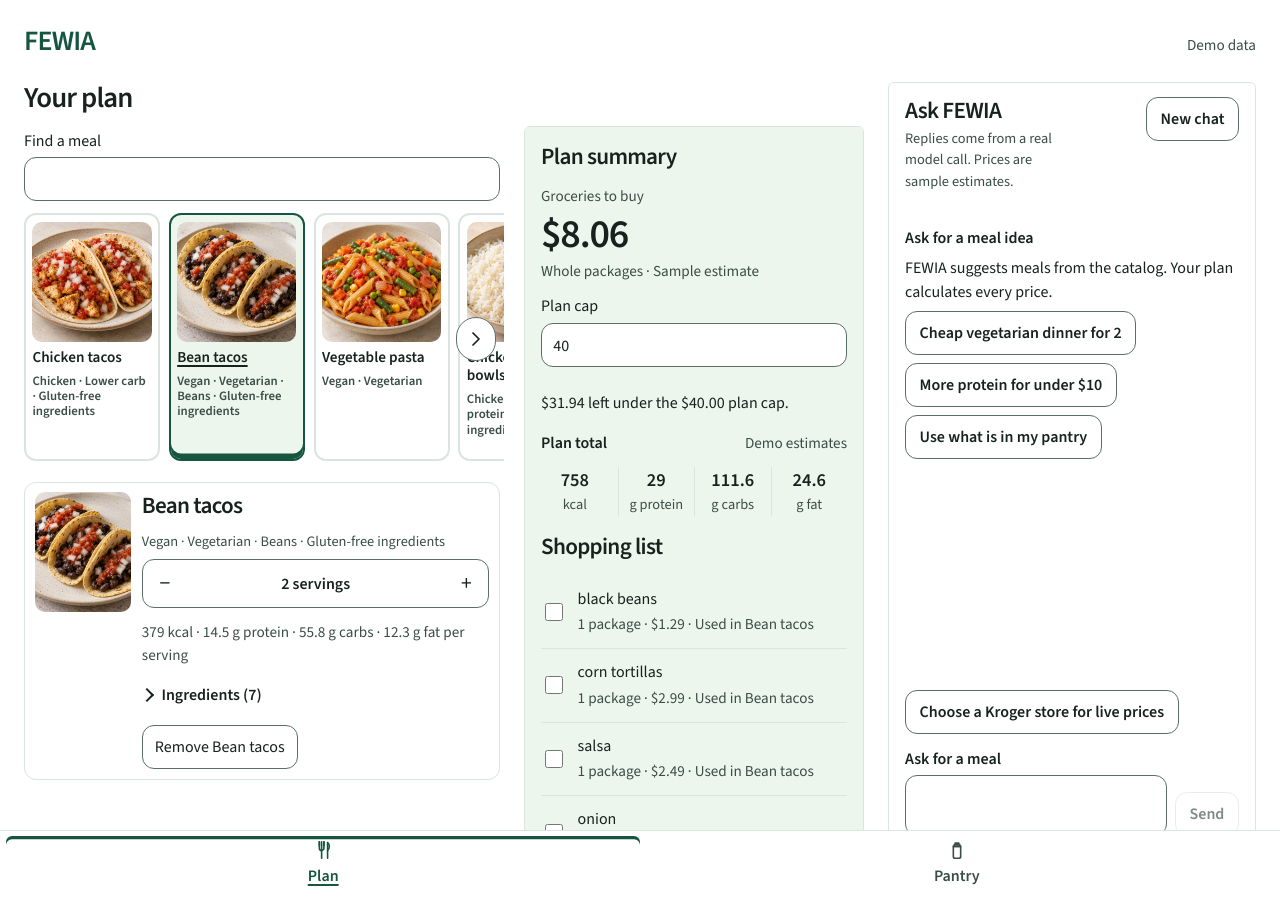
Scenario: TonightPrototype › keeps an invalid plan cap linked after visiting Pantry
This screenshot has width=1280, height=900.
Replace the text in the field labelled "Plan cap" with "12.345" at (694, 345), box [541, 323, 847, 367]
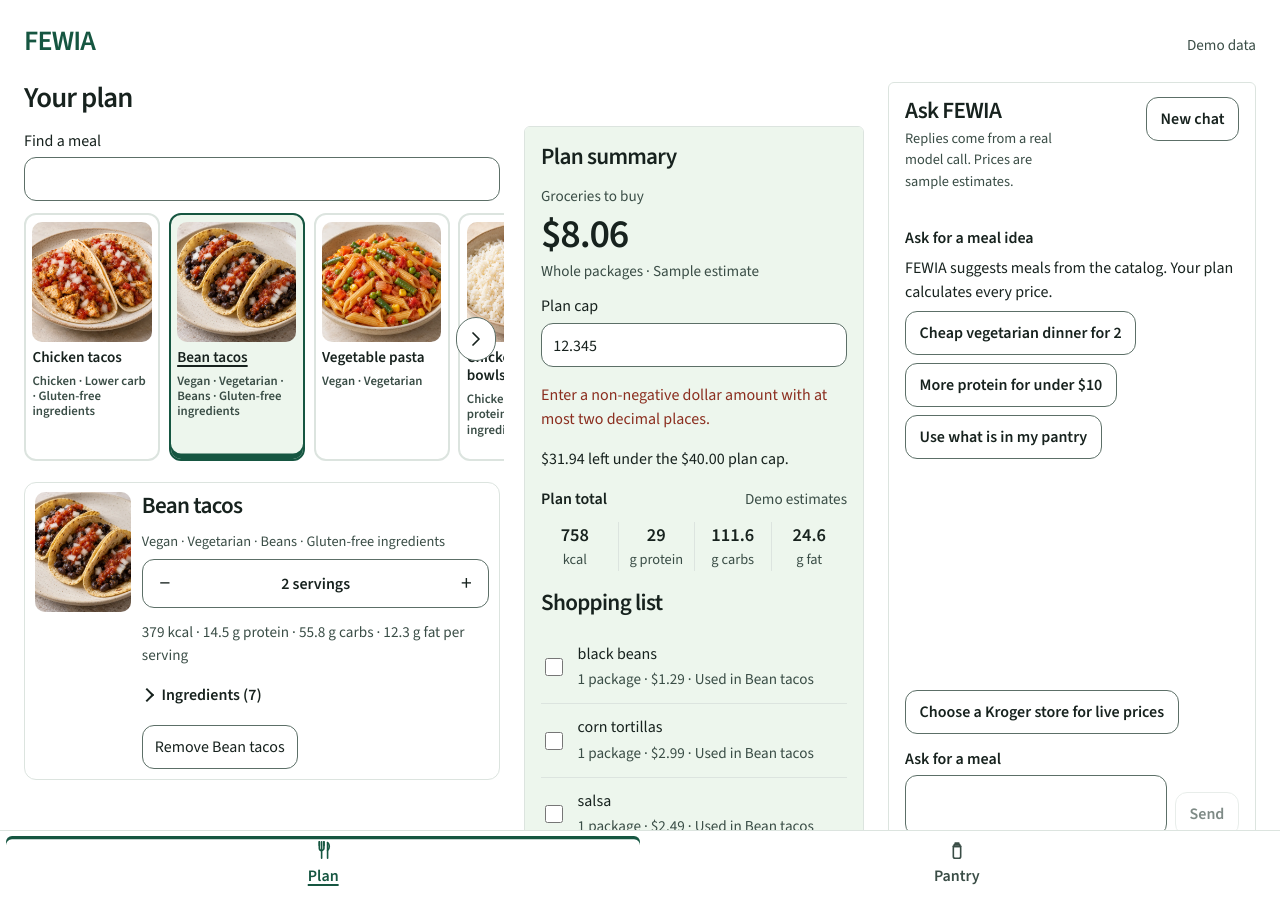
Expected: the message "Enter a non-negative dollar amount with at most two decimal places." is shown, [541, 382, 847, 430]
Click the button "Pantry" at (957, 864), box [640, 836, 1274, 892]
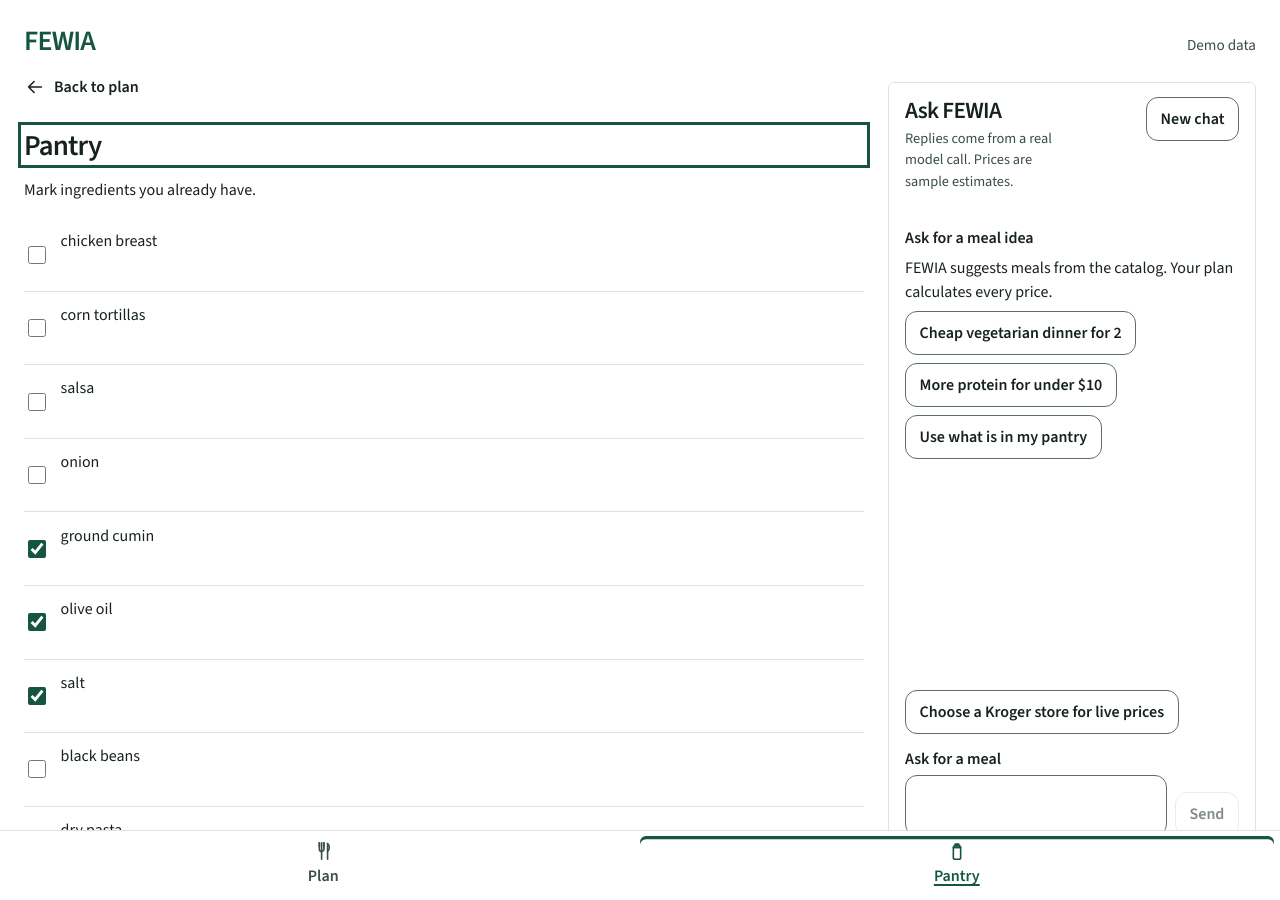
Click the button "Plan" at (323, 864), box [6, 836, 640, 892]
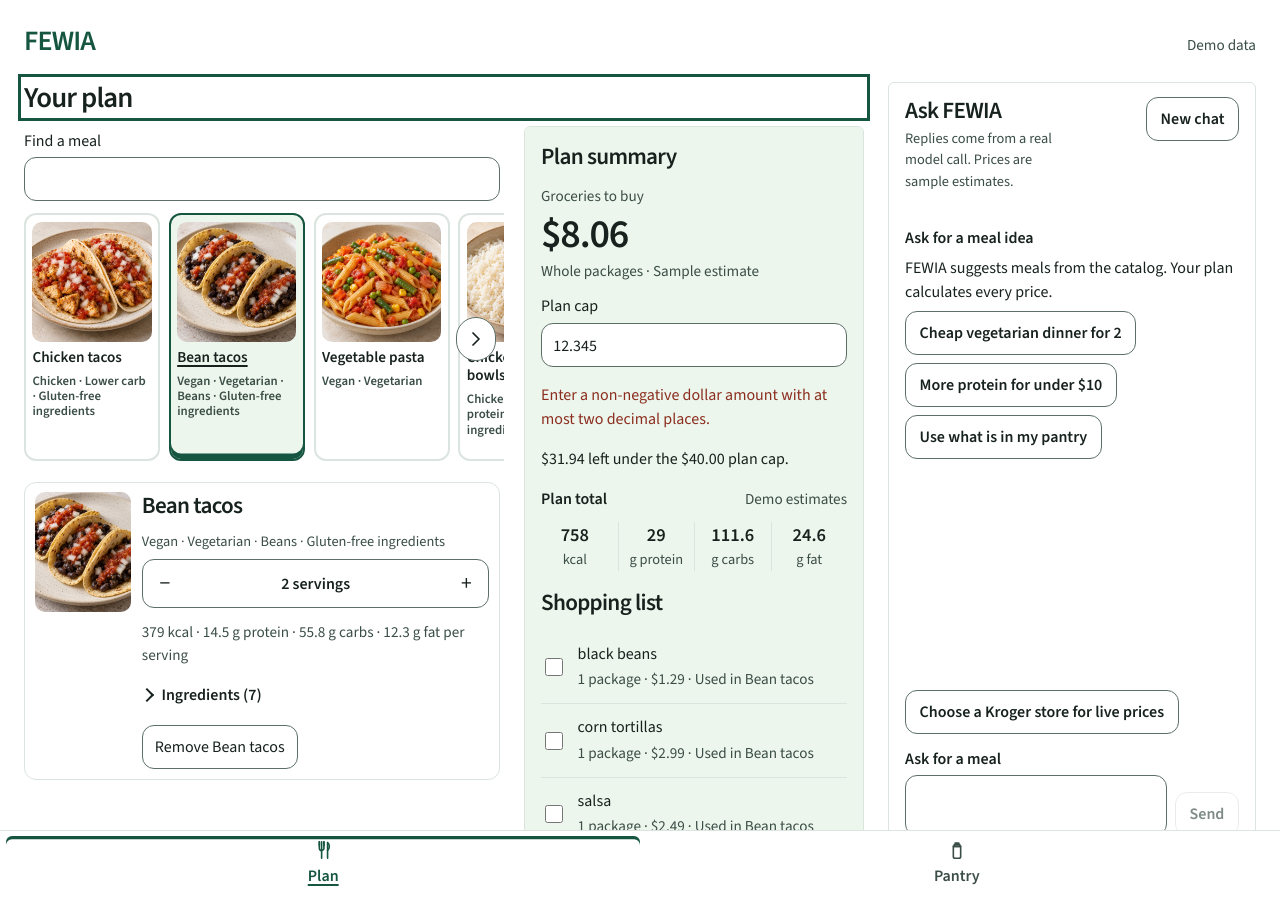
Expected: the field labelled "Plan cap" holds "12.345", [541, 323, 847, 367]
Expected: the message "Enter a non-negative dollar amount with at most two decimal places." is shown, [541, 382, 847, 430]
